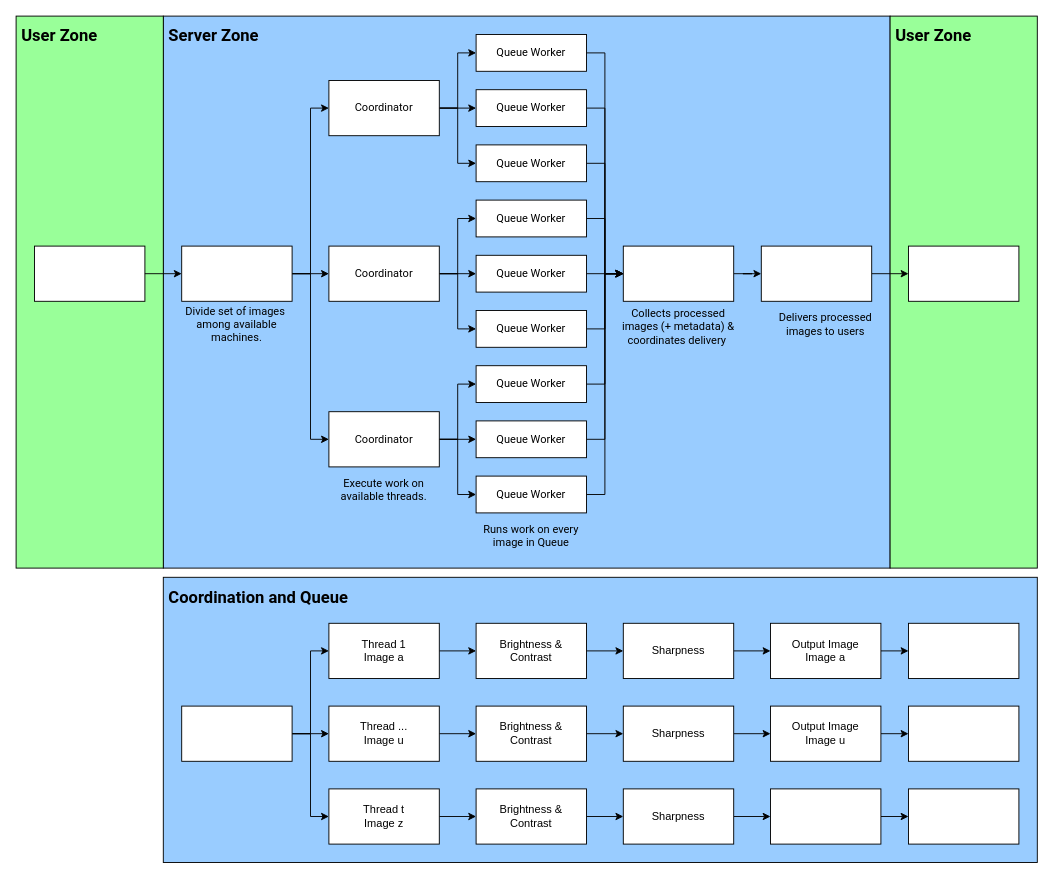
Image size: 1053x879. Some labels were removed from this diagram. The centre of each missing label's shape, as x and y in pixels:
Get x from Pending Queue: the point at 236,733
Output Compiler: the point at 678,273
Output Delivery: the point at 816,273
Output Image Image z: the point at 825,816
Put a to Finished Queue: the point at 963,650
Put u to Finished Queue: the point at 963,733
Put z to Finished Queue: the point at 963,816
User Input: the point at 89,273
User Output: the point at 963,273
Work Manager: the point at 236,273
